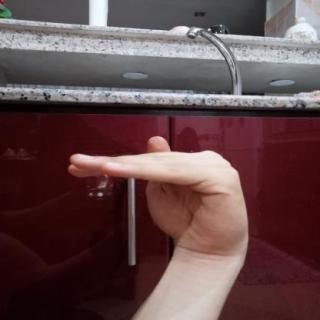KHAA: (54, 124, 265, 256)
